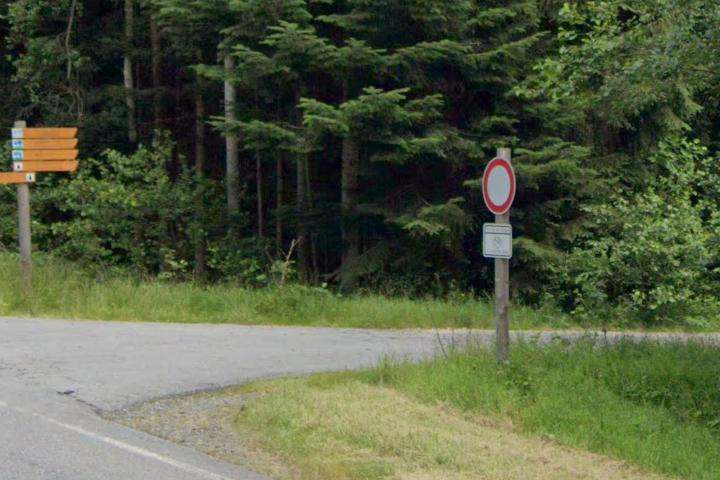traffic_sign: (481, 156, 517, 215)
